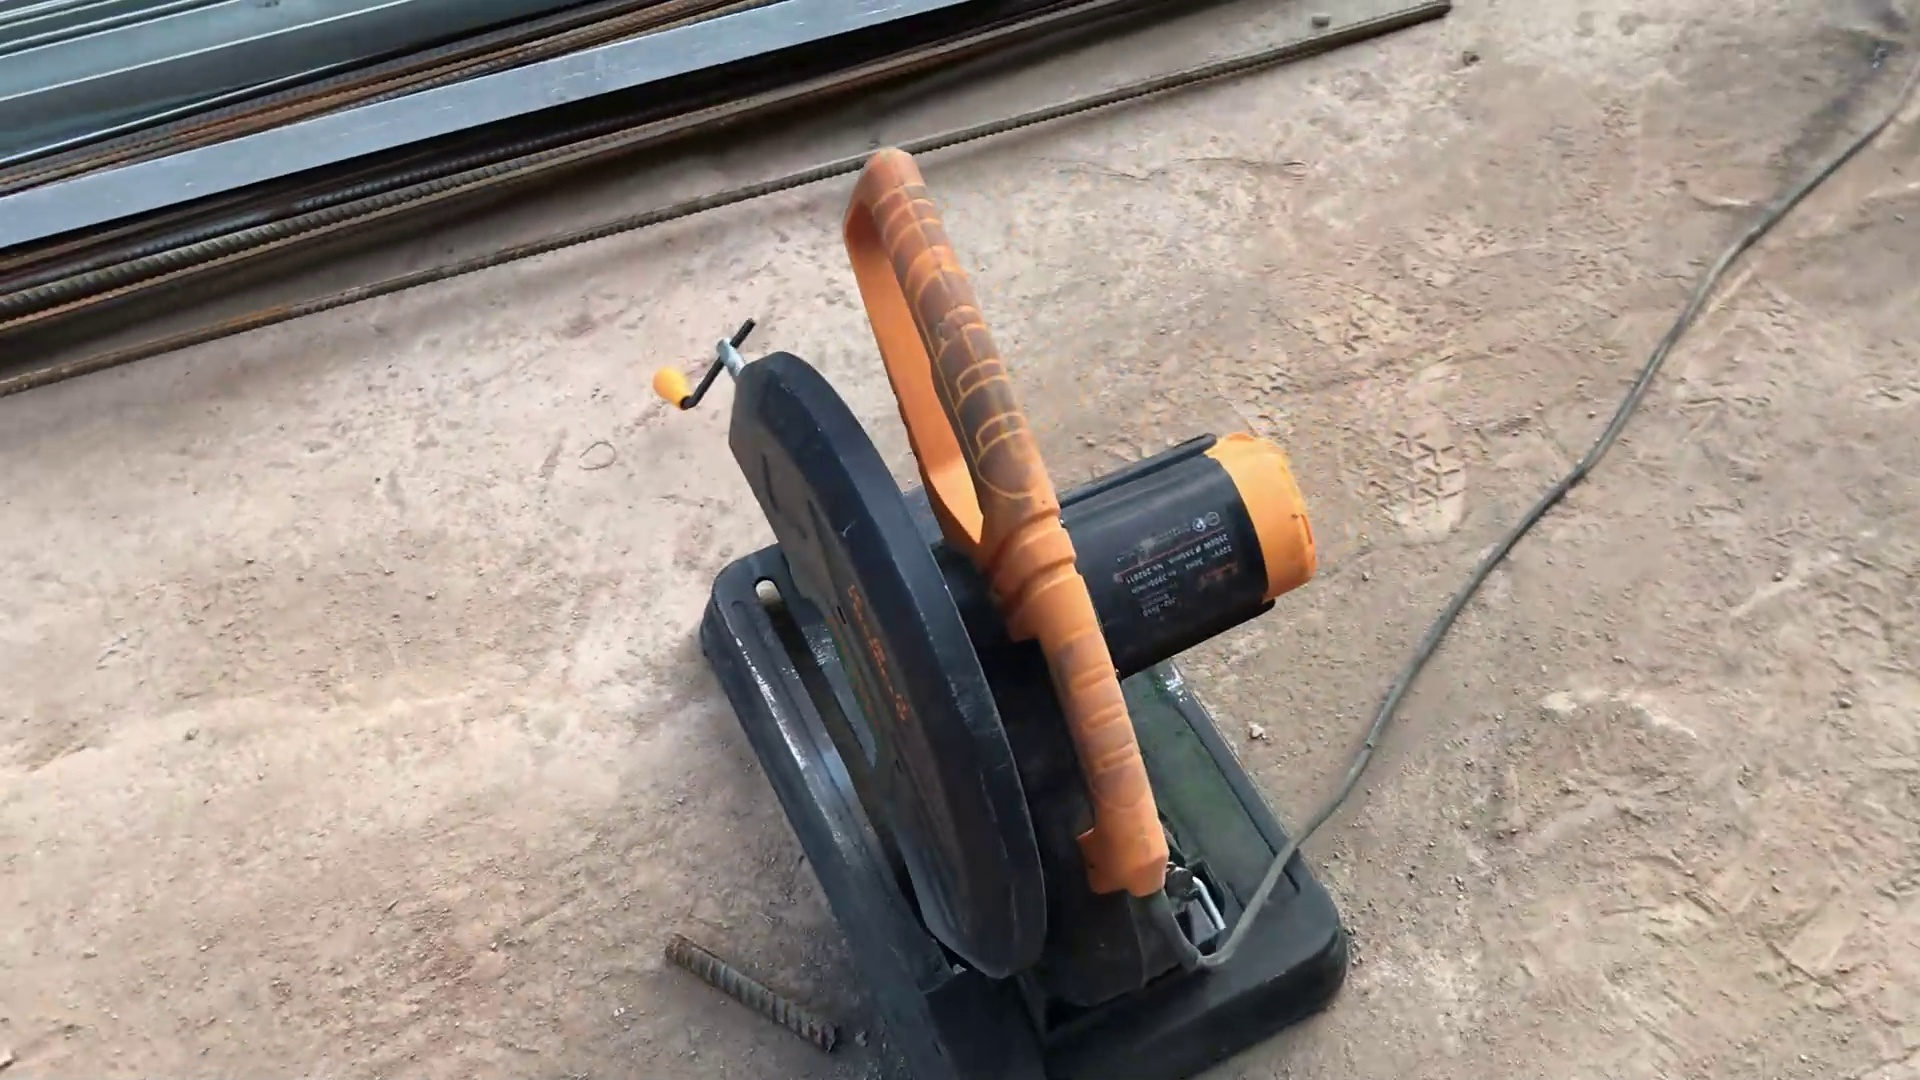cutter: (641, 160, 1390, 1080)
